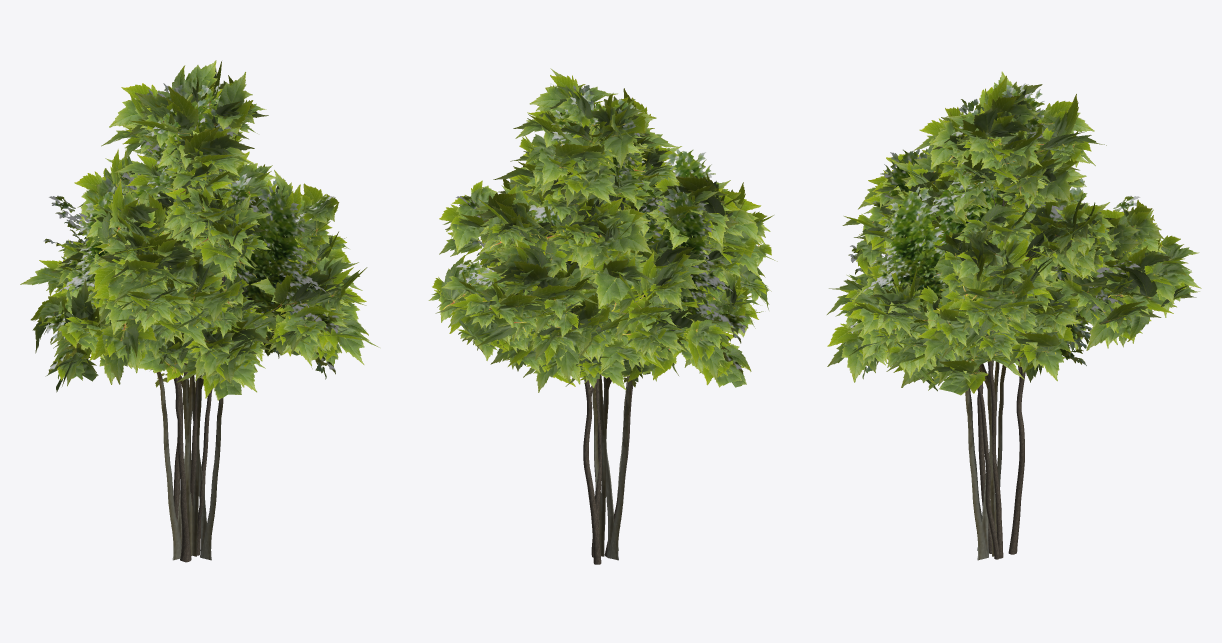
File: tree_maple.glb
3 views of the same model, side by side, from view 1: azimuth 30°, elevation 25°; view 2: azimuth 150°, elevation 25°; view 3: azimuth 270°, elevation 25° (orthographic).
Visible parts, largest first — view 1: Maple_tree1_LOD2, Maple_tree1_LOD1, Maple_tree1_LOD3; view 2: Maple_tree1_LOD2, Maple_tree1_LOD1, Maple_tree1_LOD3; view 3: Maple_tree1_LOD2, Maple_tree1_LOD1, Maple_tree1_LOD3.
Part boxes in pixels (x1,y1,x2,y2): Maple_tree1_LOD2: (20, 60, 379, 400); Maple_tree1_LOD1: (34, 75, 365, 562); Maple_tree1_LOD3: (43, 83, 340, 560); Maple_tree1_LOD2: (432, 68, 777, 392); Maple_tree1_LOD1: (428, 85, 771, 564); Maple_tree1_LOD3: (450, 85, 747, 560); Maple_tree1_LOD2: (827, 71, 1201, 395); Maple_tree1_LOD1: (835, 92, 1199, 559); Maple_tree1_LOD3: (848, 83, 1140, 560).
Bounding box in the file's own units: 2.64 × 3.85 × 2.8.
3 materials, 3 textured.
